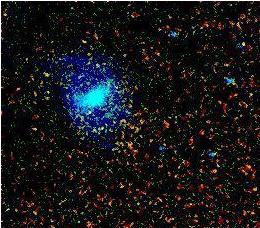star: (84, 114, 114, 144)
